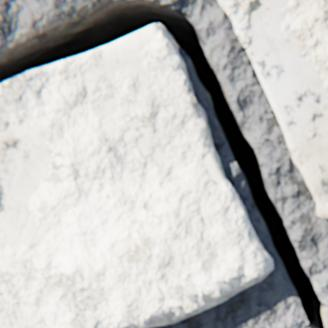brick: (0, 25, 273, 327), (218, 0, 327, 220)
broken_brick: (323, 307, 327, 327)
crack: (0, 0, 325, 327)
